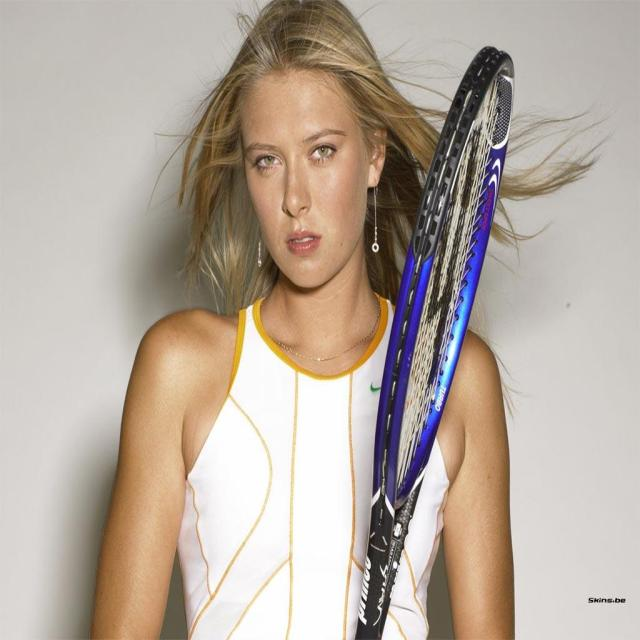Face: (229, 60, 383, 288)
